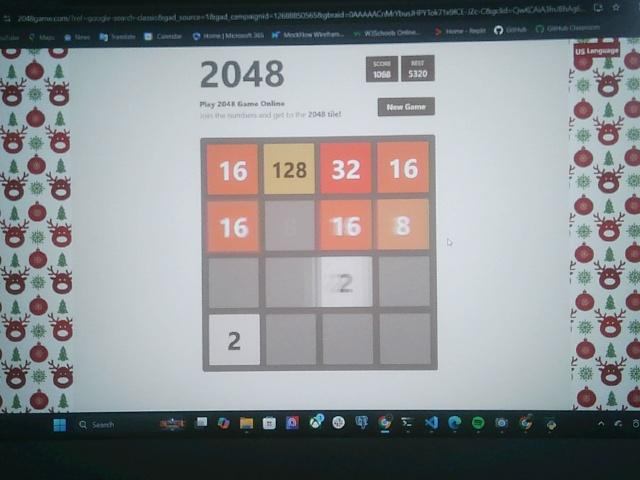board: (201, 137, 437, 371)
tile: (319, 142, 373, 195), (207, 199, 259, 252), (320, 199, 373, 251), (208, 313, 261, 365), (378, 199, 431, 250), (321, 257, 373, 308), (265, 143, 315, 196), (379, 143, 430, 194), (207, 144, 257, 195)
